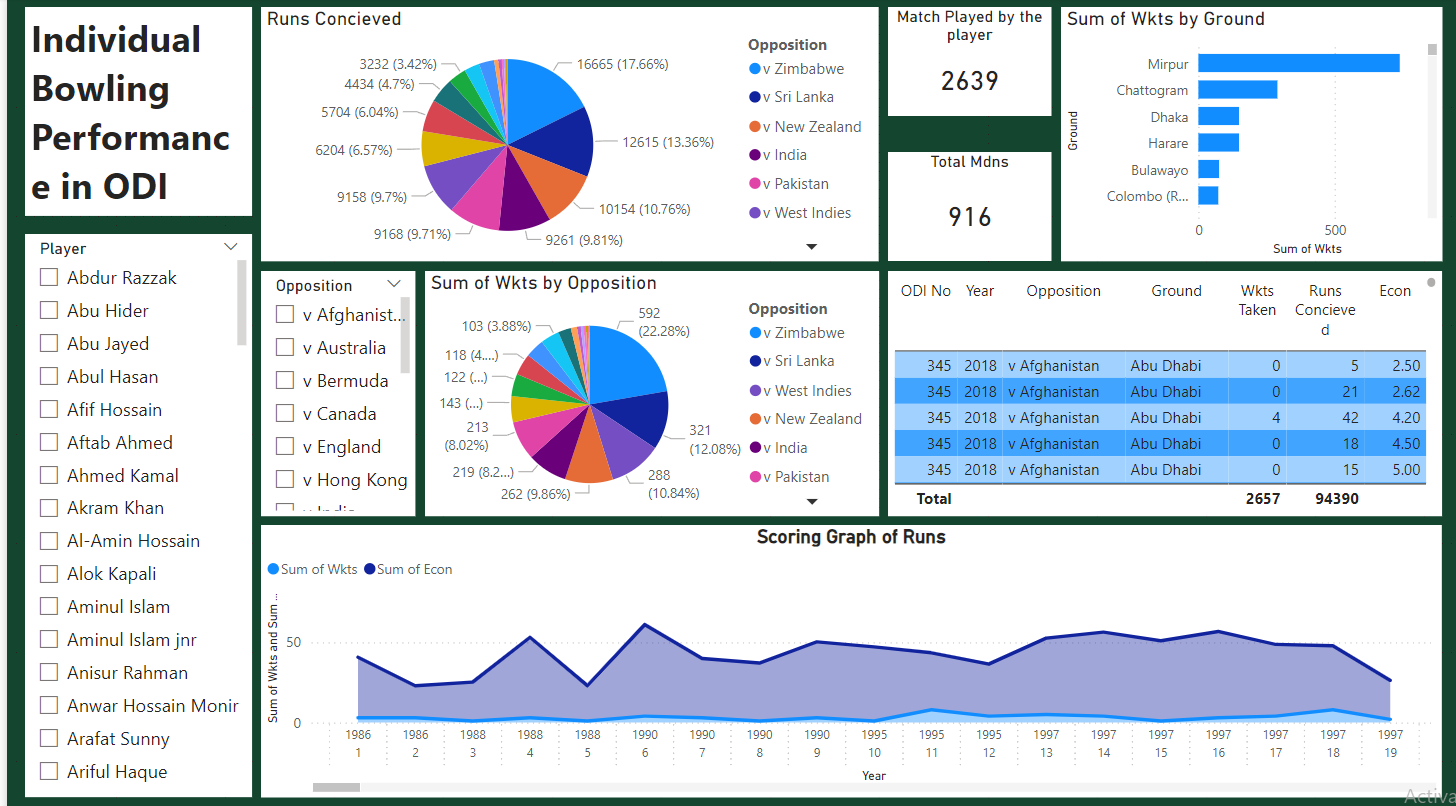

Layout of this report page (visuals, bound fields, positions):
{"tool":"powerbi","page":{"name":"Individual Bowling","canvas":[1280,720],"ordinal":1},"visuals":[{"type":"slicer","fields":{"Values":["All innings individual bowling.Player"]},"box":[16,208,200,496],"z":0},{"type":"tableEx","fields":{"Values":["All innings individual bowling.ODI No","All innings individual bowling.Start Date.Variation.Date Hierarchy.Year","All innings individual bowling.Opposition","All innings individual bowling.Ground","All innings individual bowling.Wkts","All innings individual bowling.Runs","All innings individual bowling.Econ"]},"box":[776,240,488,216],"z":1000},{"type":"stackedAreaChart","title":"Scoring Graph of Runs","fields":{"Category":["All innings individual bowling.ODI No","All innings individual bowling.Start Date.Variation.Date Hierarchy.Year"],"Y":["All innings individual bowling.Wkts","All innings individual bowling.Econ"]},"box":[224,464,1040,240],"z":2000},{"type":"clusteredBarChart","fields":{"Category":["All innings individual bowling.Ground"],"Y":["All innings individual bowling.Wkts"]},"box":[928,8,336,224],"z":3000},{"type":"card","title":"Match Played by the player","fields":{"Values":["All innings individual bowling.ODI No"]},"box":[776,8,144,96],"z":4000},{"type":"pieChart","fields":{"Y":["All innings individual bowling.Wkts"],"Category":["All innings individual bowling.Opposition"]},"box":[368,240,400,216],"z":5000},{"type":"pieChart","title":"Runs Concieved ","fields":{"Y":["All innings individual bowling.Runs"],"Category":["All innings individual bowling.Opposition"]},"box":[224,8,544,224],"z":6000},{"type":"card","title":"Total Mdns","fields":{"Values":["All innings individual bowling.Mdns"]},"box":[776,136,144,96],"z":7000},{"type":"slicer","fields":{"Values":["All innings individual bowling.Opposition"]},"box":[224,240,136,216],"z":8000},{"type":"textbox","box":[16,8,200,184],"z":9000}]}

Visuals, with their boxes on the page's 1280x720 design canvas (x1, y1, x2, y2). These are canvas units, not pixel positions in the 1456x806 screenshot, which may show the page scaled, cropped or inside an application window:
slicer - All innings individual bowling.Player: x1=16 y1=208 x2=216 y2=704
tableEx - All innings individual bowling.ODI No x All innings individual bowling.Start Date.Variation.Date Hierarchy.Year: x1=776 y1=240 x2=1264 y2=456
"Scoring Graph of Runs" stackedAreaChart: x1=224 y1=464 x2=1264 y2=704
clusteredBarChart - All innings individual bowling.Ground x All innings individual bowling.Wkts: x1=928 y1=8 x2=1264 y2=232
"Match Played by the player" card: x1=776 y1=8 x2=920 y2=104
pieChart - All innings individual bowling.Wkts x All innings individual bowling.Opposition: x1=368 y1=240 x2=768 y2=456
"Runs Concieved " pieChart: x1=224 y1=8 x2=768 y2=232
"Total Mdns" card: x1=776 y1=136 x2=920 y2=232
slicer - All innings individual bowling.Opposition: x1=224 y1=240 x2=360 y2=456
textbox: x1=16 y1=8 x2=216 y2=192
